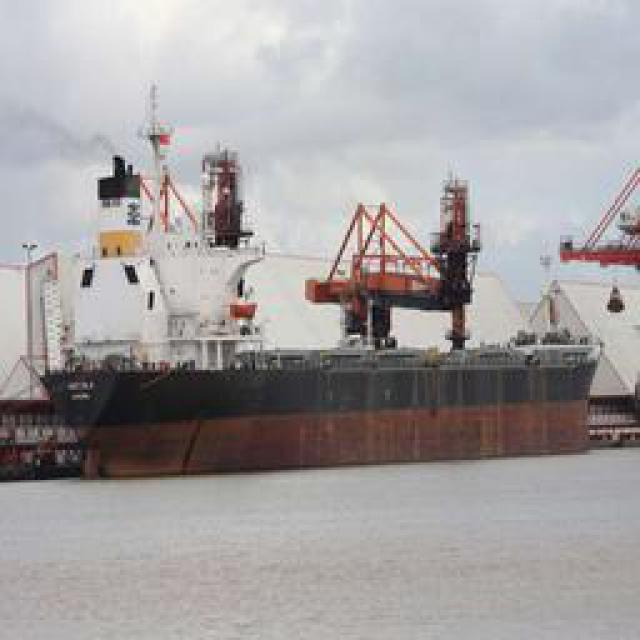Ship: (44, 163, 596, 485)
